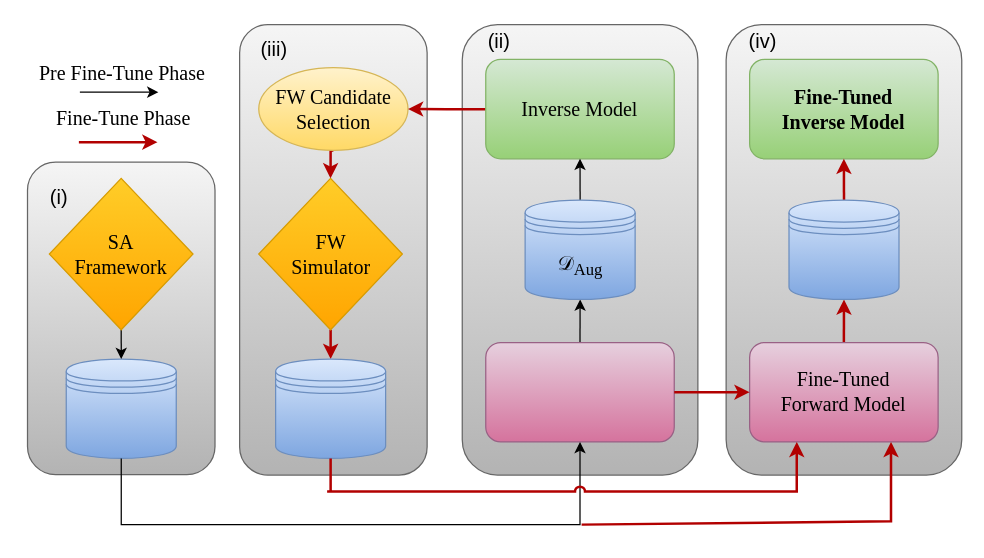
The diagram is 984 pixels wide and 558 high, and some of its shapes have lost their labels. The shapes that lost their labels are listed below. From the top down, each one's box as (x1, y1, x2, y2) in pixels, then its label:
(788, 199, 899, 300): 𝒟 Aug-FT
(65, 358, 176, 458): 𝒟 SA
(274, 358, 386, 458): 𝒟 FW
(484, 341, 674, 442): Forward Model
